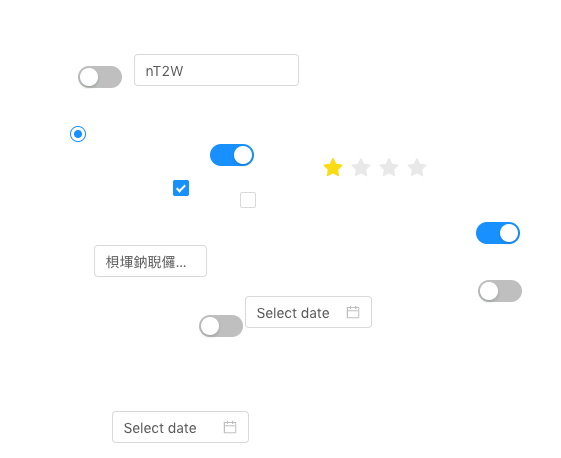Checkbox: (173, 177, 189, 198), (240, 189, 256, 210)
DatePicker: (112, 411, 249, 443), (245, 296, 372, 328)
Input: (134, 54, 299, 86), (94, 245, 207, 277)
Radio: (70, 123, 86, 143)
Rate: (323, 151, 443, 183)
Switch: (78, 65, 122, 89), (476, 221, 520, 245), (478, 279, 522, 303), (210, 143, 254, 167), (199, 314, 243, 338)
